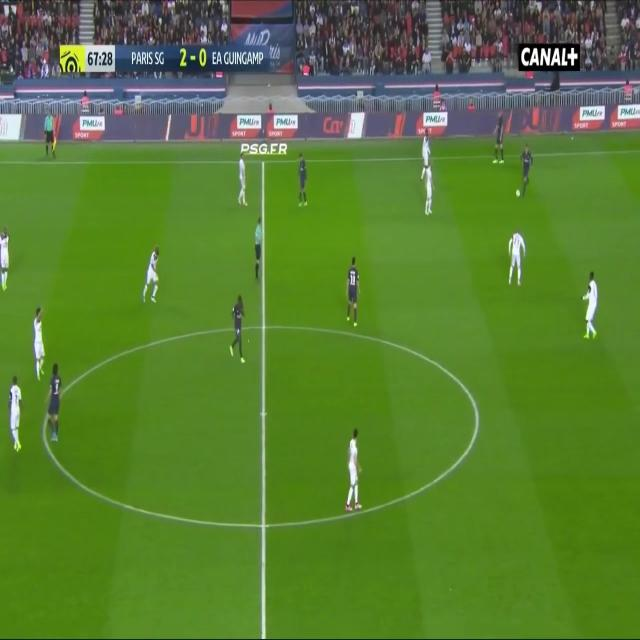Ball: (514, 185, 521, 200)
Player: (344, 428, 362, 516), (226, 295, 248, 366), (6, 372, 24, 457), (46, 362, 64, 444), (580, 270, 600, 341), (506, 230, 527, 290), (346, 257, 362, 330), (141, 246, 161, 304), (32, 304, 46, 384), (491, 105, 507, 171), (520, 140, 536, 202), (0, 223, 12, 295), (295, 151, 309, 210), (236, 151, 250, 209), (424, 162, 434, 218), (420, 128, 431, 178)
Referee: (42, 111, 58, 162), (252, 215, 264, 280)
